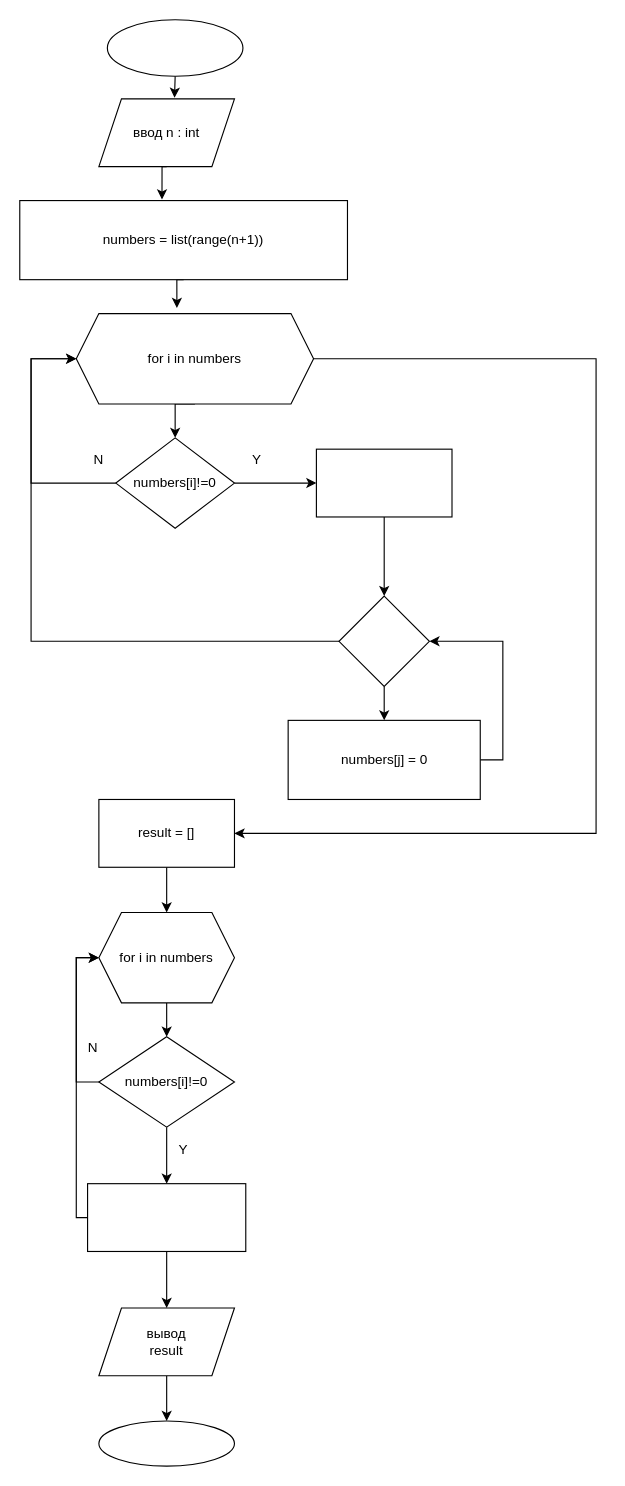
Some shapes in this 625 by 1486 pixel diagram are drawn without their labels. Each missing label, with the centre of its shape:
j=i*2: point 383,482
result.push(i): point 166,1217
while j<n: point 383,640
конец: point 166,1443
начало: point 174,47
